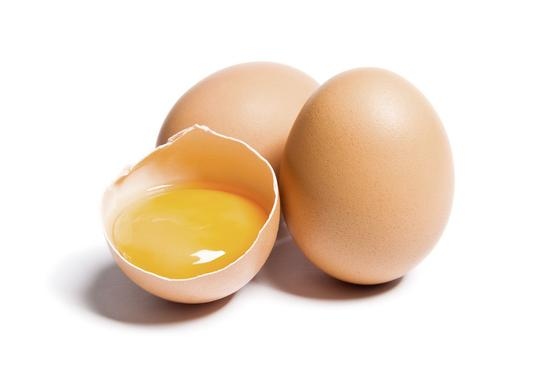egg: (286, 67, 453, 290)
